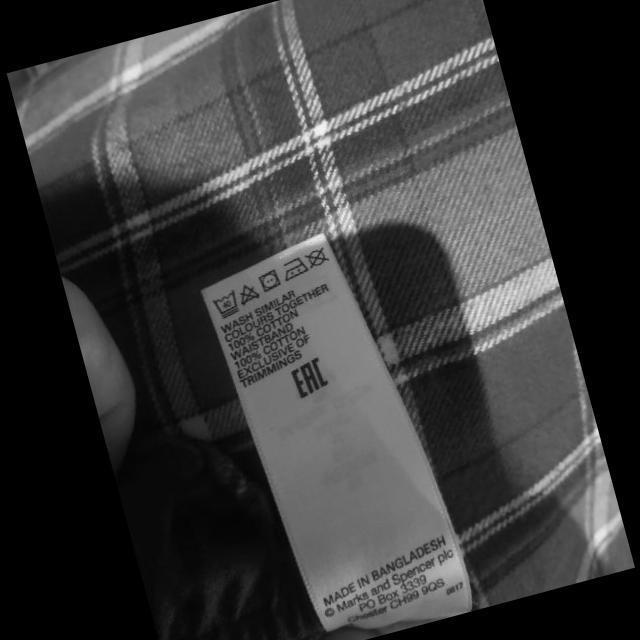40C: (209, 288, 241, 322)
DN_bleach: (234, 280, 262, 306)
DN_dry_clean: (302, 244, 330, 270)
iron_medium: (278, 254, 310, 282)
tumble_dry_medium: (255, 266, 282, 294)
